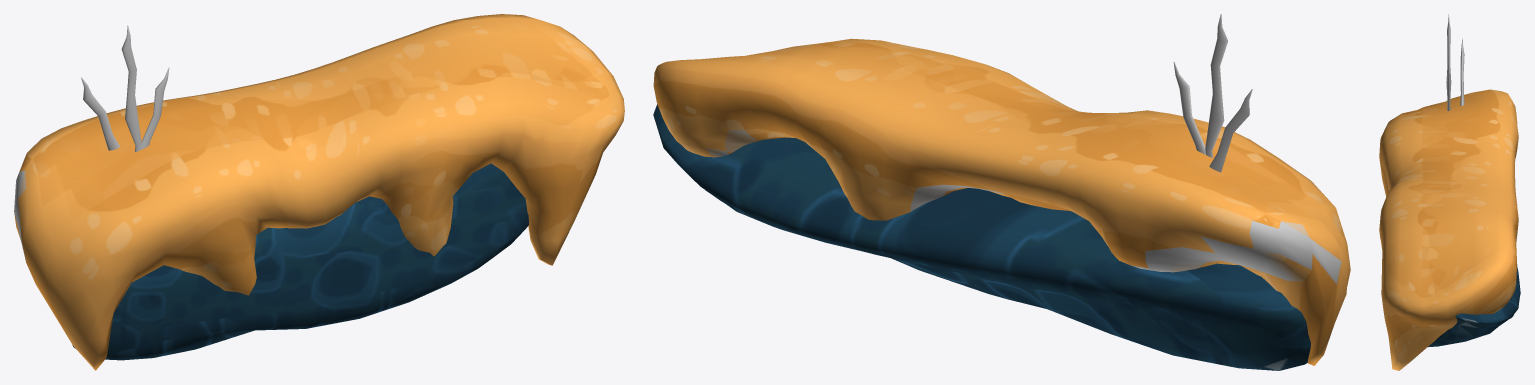
File: SeaSmall.fbx
3 renders of one model, left to right at view 1: azimuth 30°, elevation 25°; view 2: azimuth 150°, elevation 25°; view 3: azimuth 270°, elevation 25°, orthographic. The views are drawn at different scales.
Visible parts, largest first — view 1: sand, govde, Cylinder, Cylinder.001, Cylinder.002; view 2: sand, govde, Cylinder, Cylinder.001, Cylinder.002; view 3: sand, govde, Cylinder, Cylinder.001, Cylinder.002.
Boxes of the visible parts, left/top/right/bottom form: sand: left=14, top=14, right=624, bottom=370; govde: left=72, top=163, right=528, bottom=360; Cylinder: left=121, top=25, right=141, bottom=151; Cylinder.001: left=81, top=77, right=119, bottom=150; Cylinder.002: left=140, top=67, right=169, bottom=149; sand: left=653, top=38, right=1350, bottom=365; govde: left=653, top=104, right=1310, bottom=370; Cylinder: left=1205, top=14, right=1227, bottom=157; Cylinder.001: left=1209, top=89, right=1252, bottom=172; Cylinder.002: left=1173, top=62, right=1206, bottom=154; sand: left=1379, top=89, right=1518, bottom=370; govde: left=1428, top=266, right=1520, bottom=347; Cylinder: left=1446, top=14, right=1451, bottom=97; Cylinder.001: left=1460, top=37, right=1464, bottom=105; Cylinder.002: left=1447, top=66, right=1450, bottom=110.
Size of the model in its own units: 73.46 by 38.1 by 21.16.
3 materials, 3 textured.
